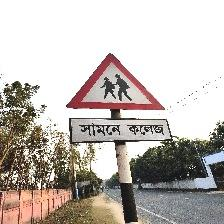College-in-front: (57, 46, 181, 152)
